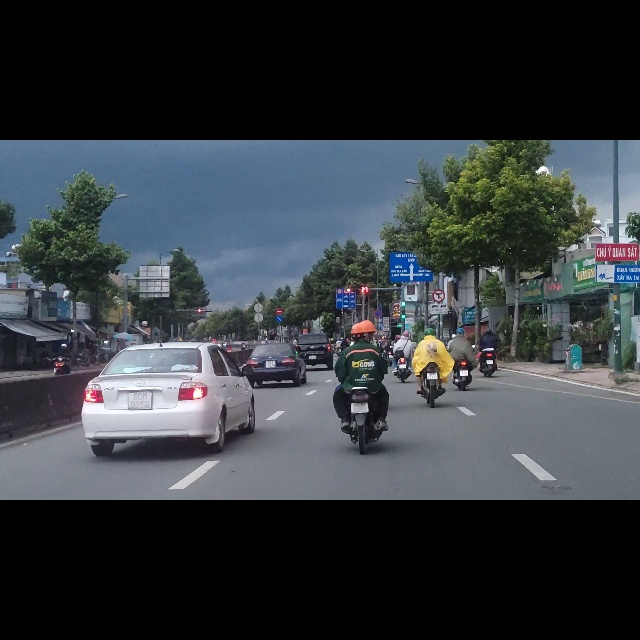bien_hieu_lenh: (336, 273, 355, 300), (432, 266, 445, 288), (374, 301, 382, 316), (276, 299, 283, 312), (276, 313, 283, 324)
